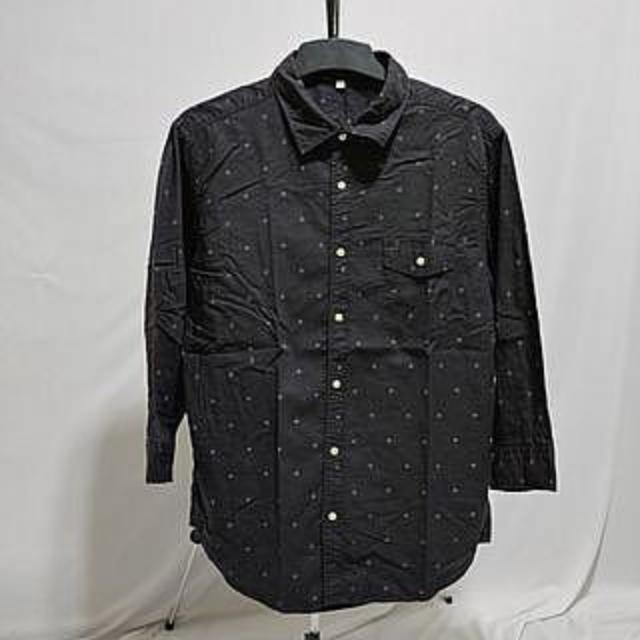SHIRT: (106, 30, 582, 622)
